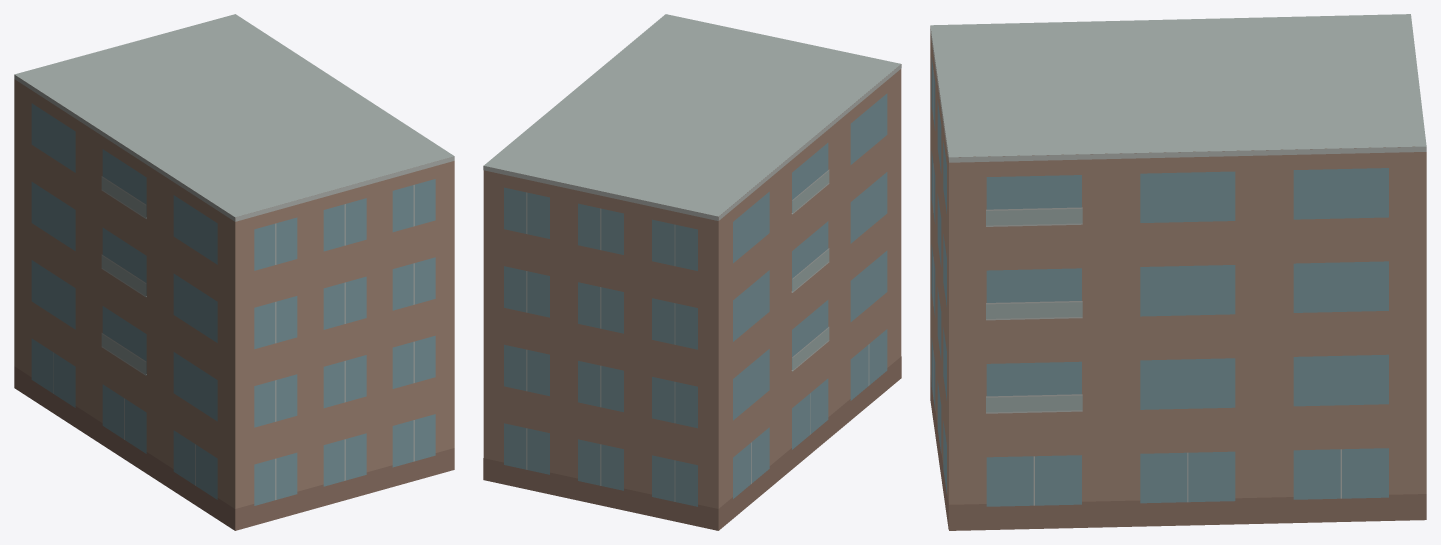
The model's file is survey-upis-32673292.glb.
3 views of the same model, side by side, from view 1: azimuth 30°, elevation 25°; view 2: azimuth 150°, elevation 25°; view 3: azimuth 270°, elevation 25° (orthographic). The views are drawn at different scales.
Parts seen in each view (by area): view 1: survey-upis-32673292.tmp; view 2: survey-upis-32673292.tmp; view 3: survey-upis-32673292.tmp.
Part boxes in pixels (x1,y1,x2,y2): survey-upis-32673292.tmp: [14, 14, 454, 530]; survey-upis-32673292.tmp: [483, 14, 901, 530]; survey-upis-32673292.tmp: [930, 14, 1426, 530].
Size of the model in its own units: 13.92 by 16.9 by 20.36.
